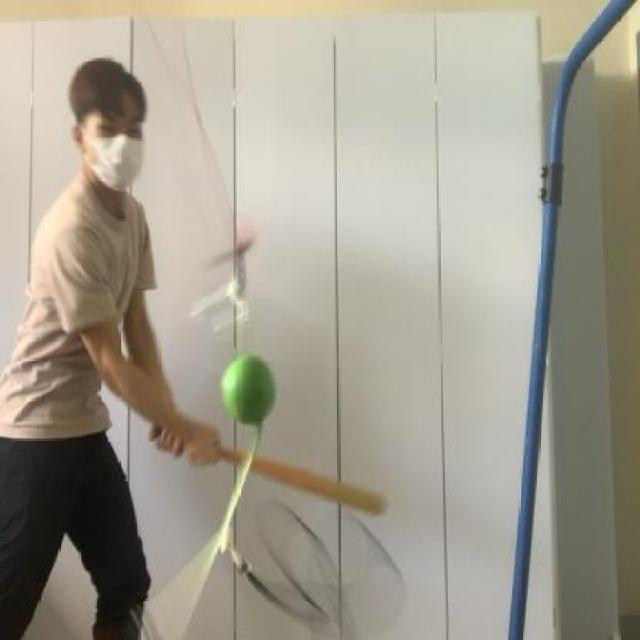baseball: (224, 346, 282, 440)
